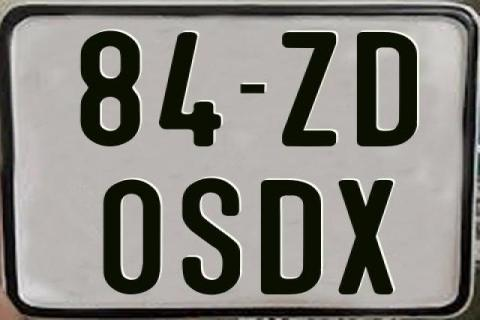0: (157, 30, 225, 146), (77, 30, 140, 148), (101, 177, 161, 297)
D: (356, 30, 421, 146), (259, 180, 320, 298)
S: (180, 176, 240, 294)
X: (338, 179, 398, 297)
Z: (279, 32, 336, 146)
